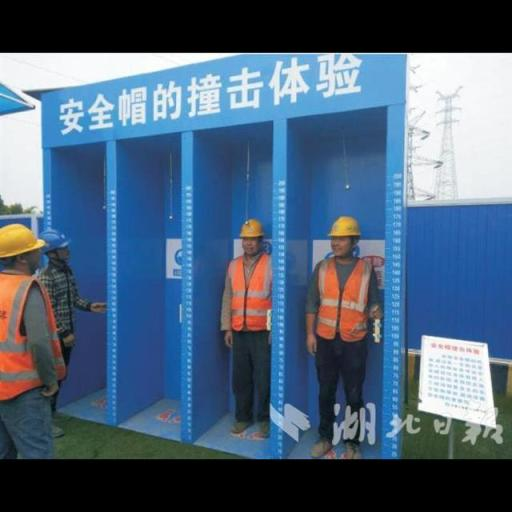Person: (292, 203, 390, 471), (205, 204, 287, 455), (0, 218, 76, 469)
boots: (306, 430, 372, 459), (230, 404, 275, 440)
helmet: (0, 220, 50, 262), (324, 208, 370, 238), (37, 221, 75, 252), (238, 217, 270, 238)
vest: (0, 272, 70, 401), (311, 256, 374, 344), (230, 257, 274, 333)
